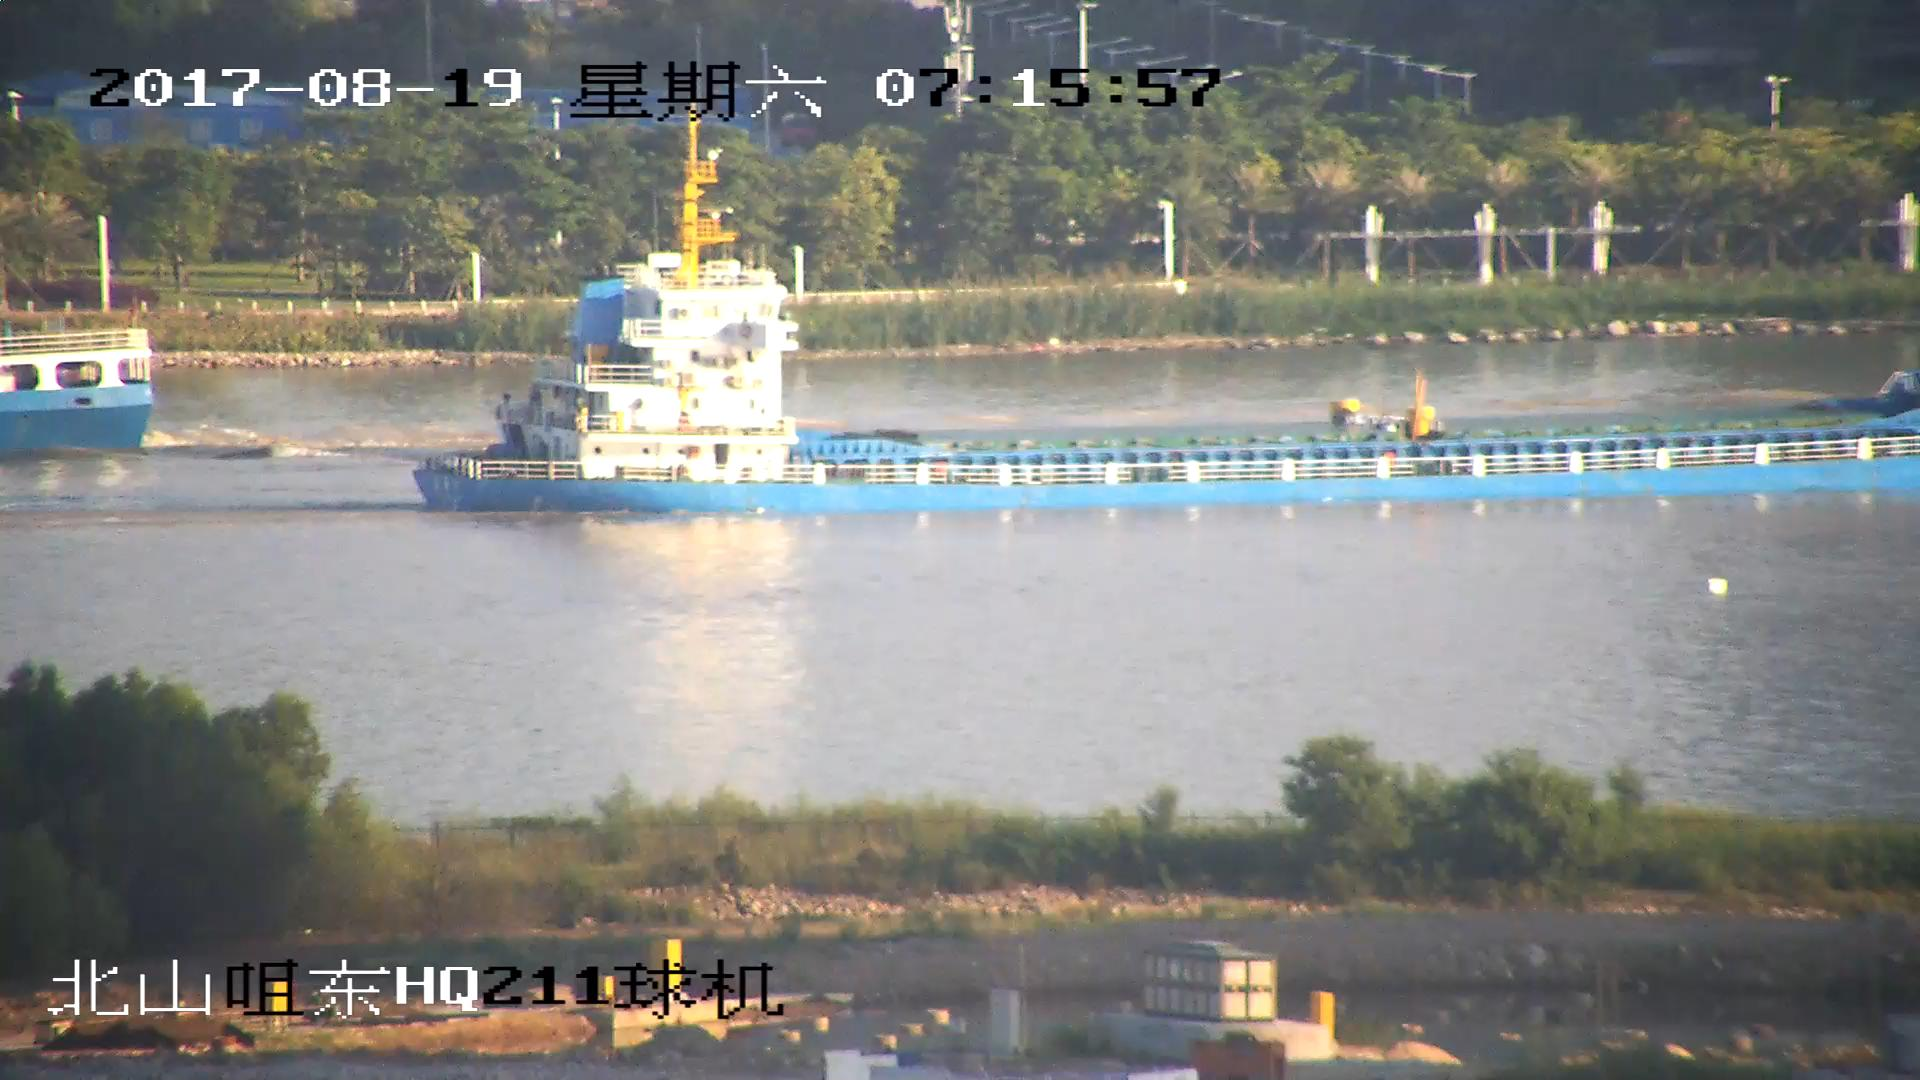general cargo ship: (412, 117, 1920, 518), (1, 329, 157, 454)
